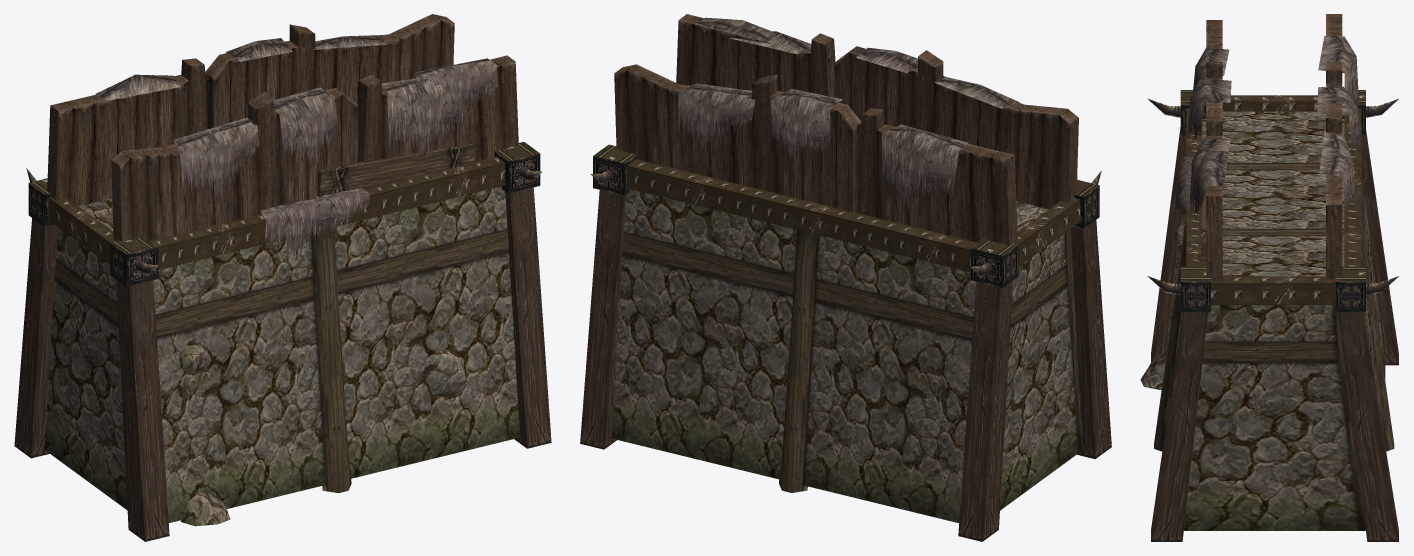
File: qiang_zhaimen_21.fbx
3 renders of one model, left to right at view 1: azimuth 30°, elevation 25°; view 2: azimuth 150°, elevation 25°; view 3: azimuth 270°, elevation 25°, orthographic. The views are drawn at different scales.
Visible parts, largest first — view 1: qiang_zhaimen_21; view 2: qiang_zhaimen_21; view 3: qiang_zhaimen_21.
Part boxes in pixels (x1,y1,x2,y2): qiang_zhaimen_21: (14, 14, 551, 541); qiang_zhaimen_21: (580, 14, 1111, 541); qiang_zhaimen_21: (1140, 14, 1398, 541).
Size of what is drawn, in the model's own units: 1024 by 908 by 586.
